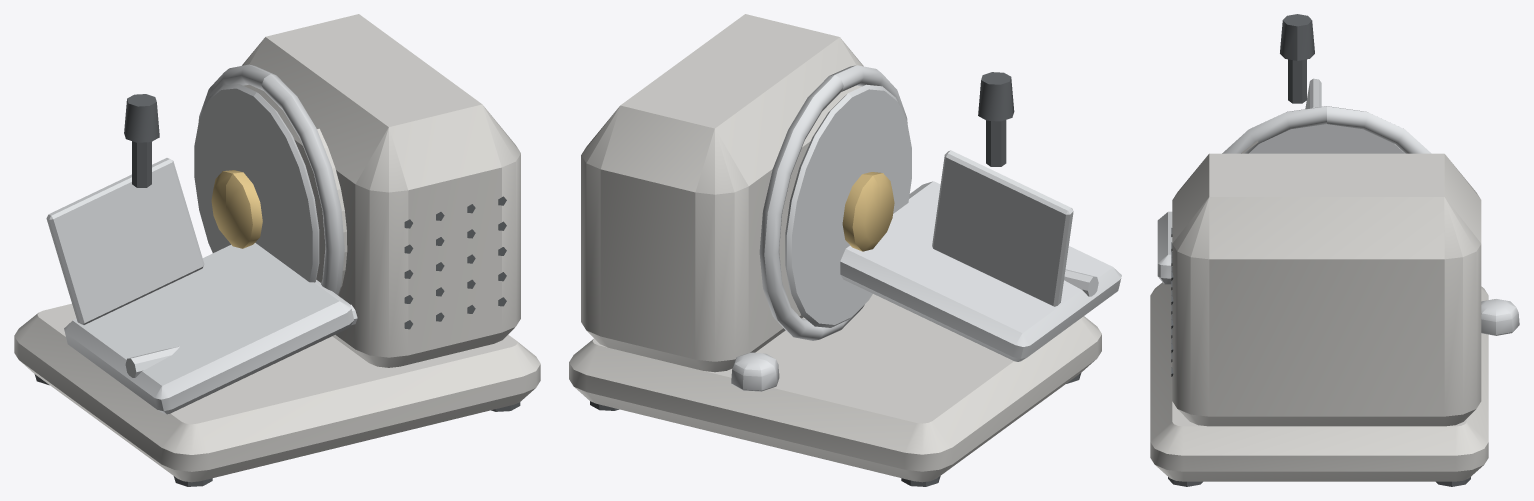
Rendered from restaurant-kitchen-and-dining-meat-slicer-d87e4931__16435.glb.
3 views of the same model, side by side, from view 1: azimuth 30°, elevation 25°; view 2: azimuth 150°, elevation 25°; view 3: azimuth 270°, elevation 25° (orthographic). The views are drawn at different scales.
Parts seen in each view (by area): view 1: meat-slicer; view 2: meat-slicer; view 3: meat-slicer.
Part boxes in pixels (left/top/right/bottom): meat-slicer: left=14, top=14, right=540, bottom=486; meat-slicer: left=569, top=14, right=1121, bottom=486; meat-slicer: left=1150, top=14, right=1519, bottom=486.
Bounding box in the file's own units: 0.6265 × 0.478 × 0.502.
